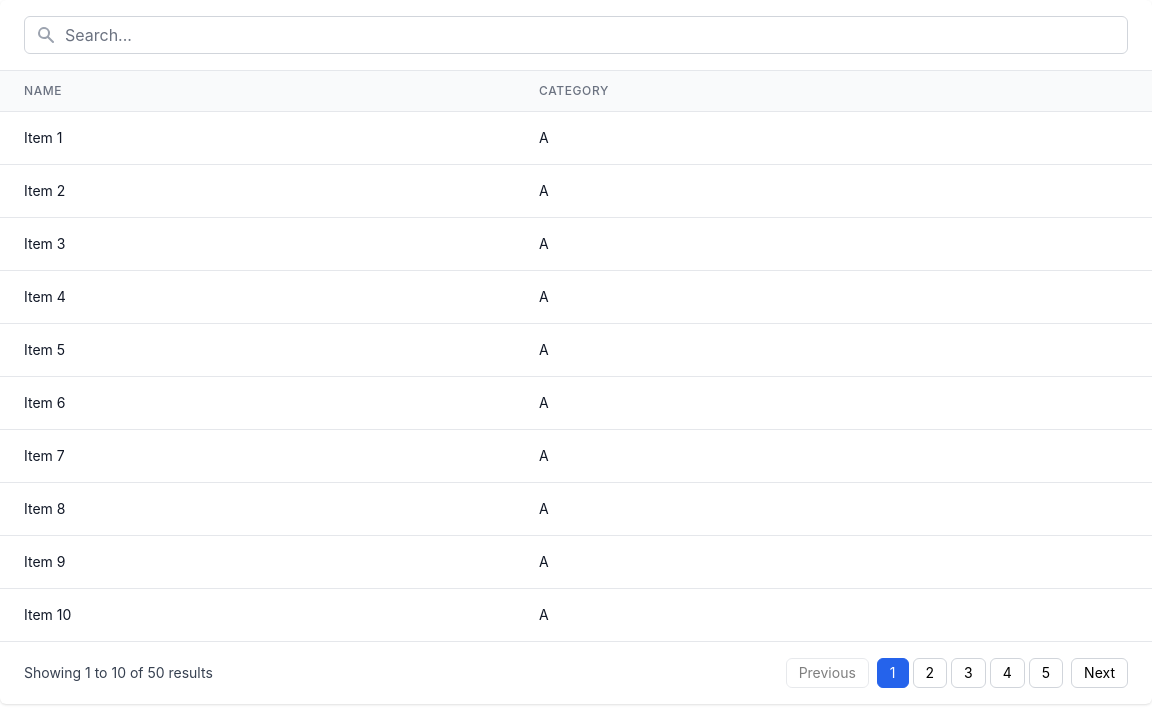
Test: DataTable Advanced Unit Tests › Advanced Pagination › handles pagination with filtered data
This screenshot has width=1152, height=720.
// Filter to category B (15 items)
Type "B" into the field with placeholder "Search...". click: (576, 35)
box: [24,16,1128,54]
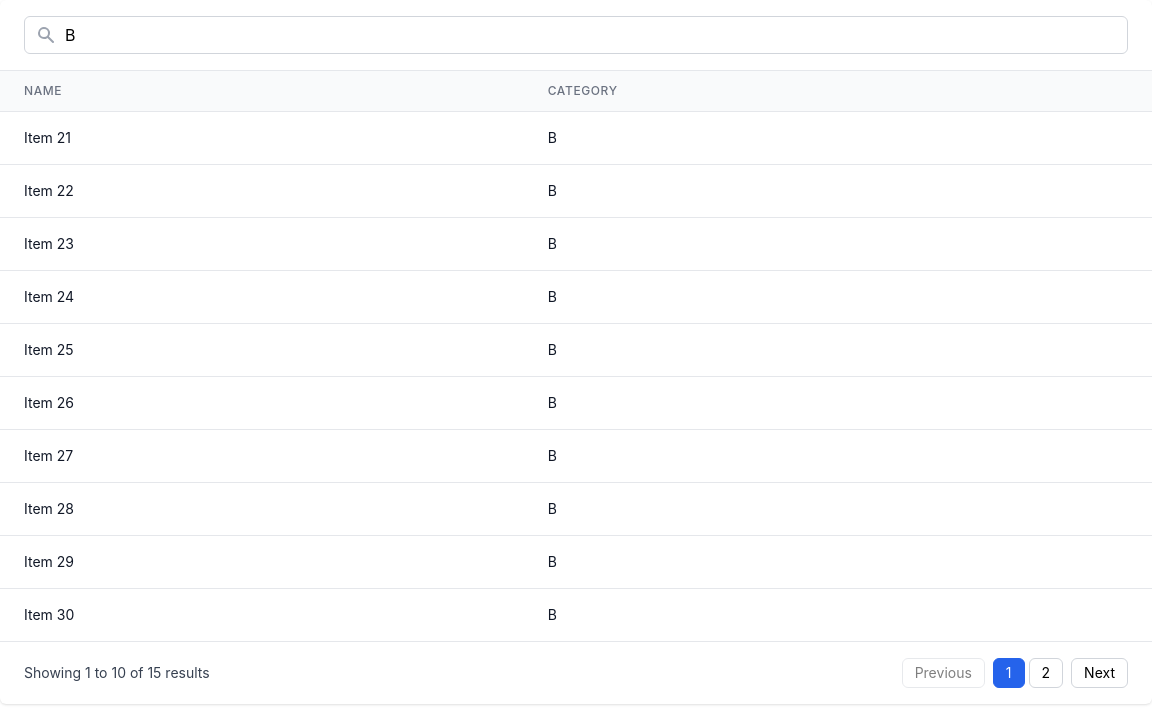
Now the text "Showing 1 to 10 of 15 results" is shown, box [24,663,210,683]
Click the button with test id "next-page". click: (1100, 673)
box: [1071,658,1128,688]
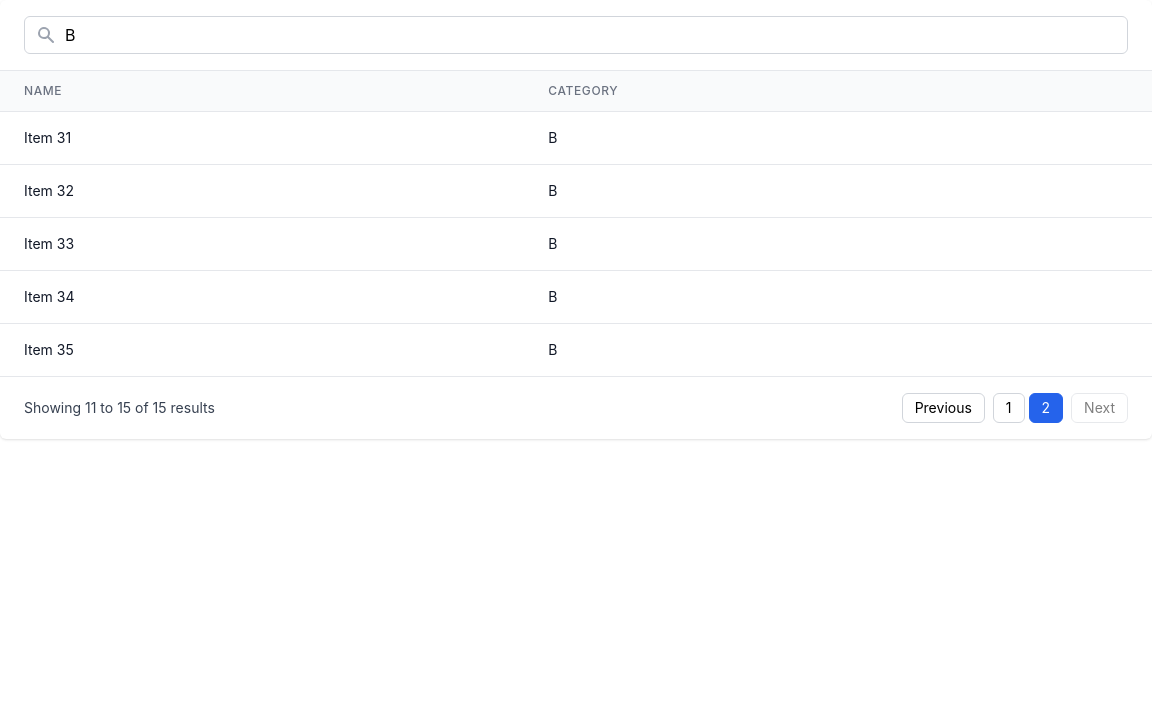
Now the text "Showing 11 to 15 of 15 results" is shown, box [24,398,215,418]
